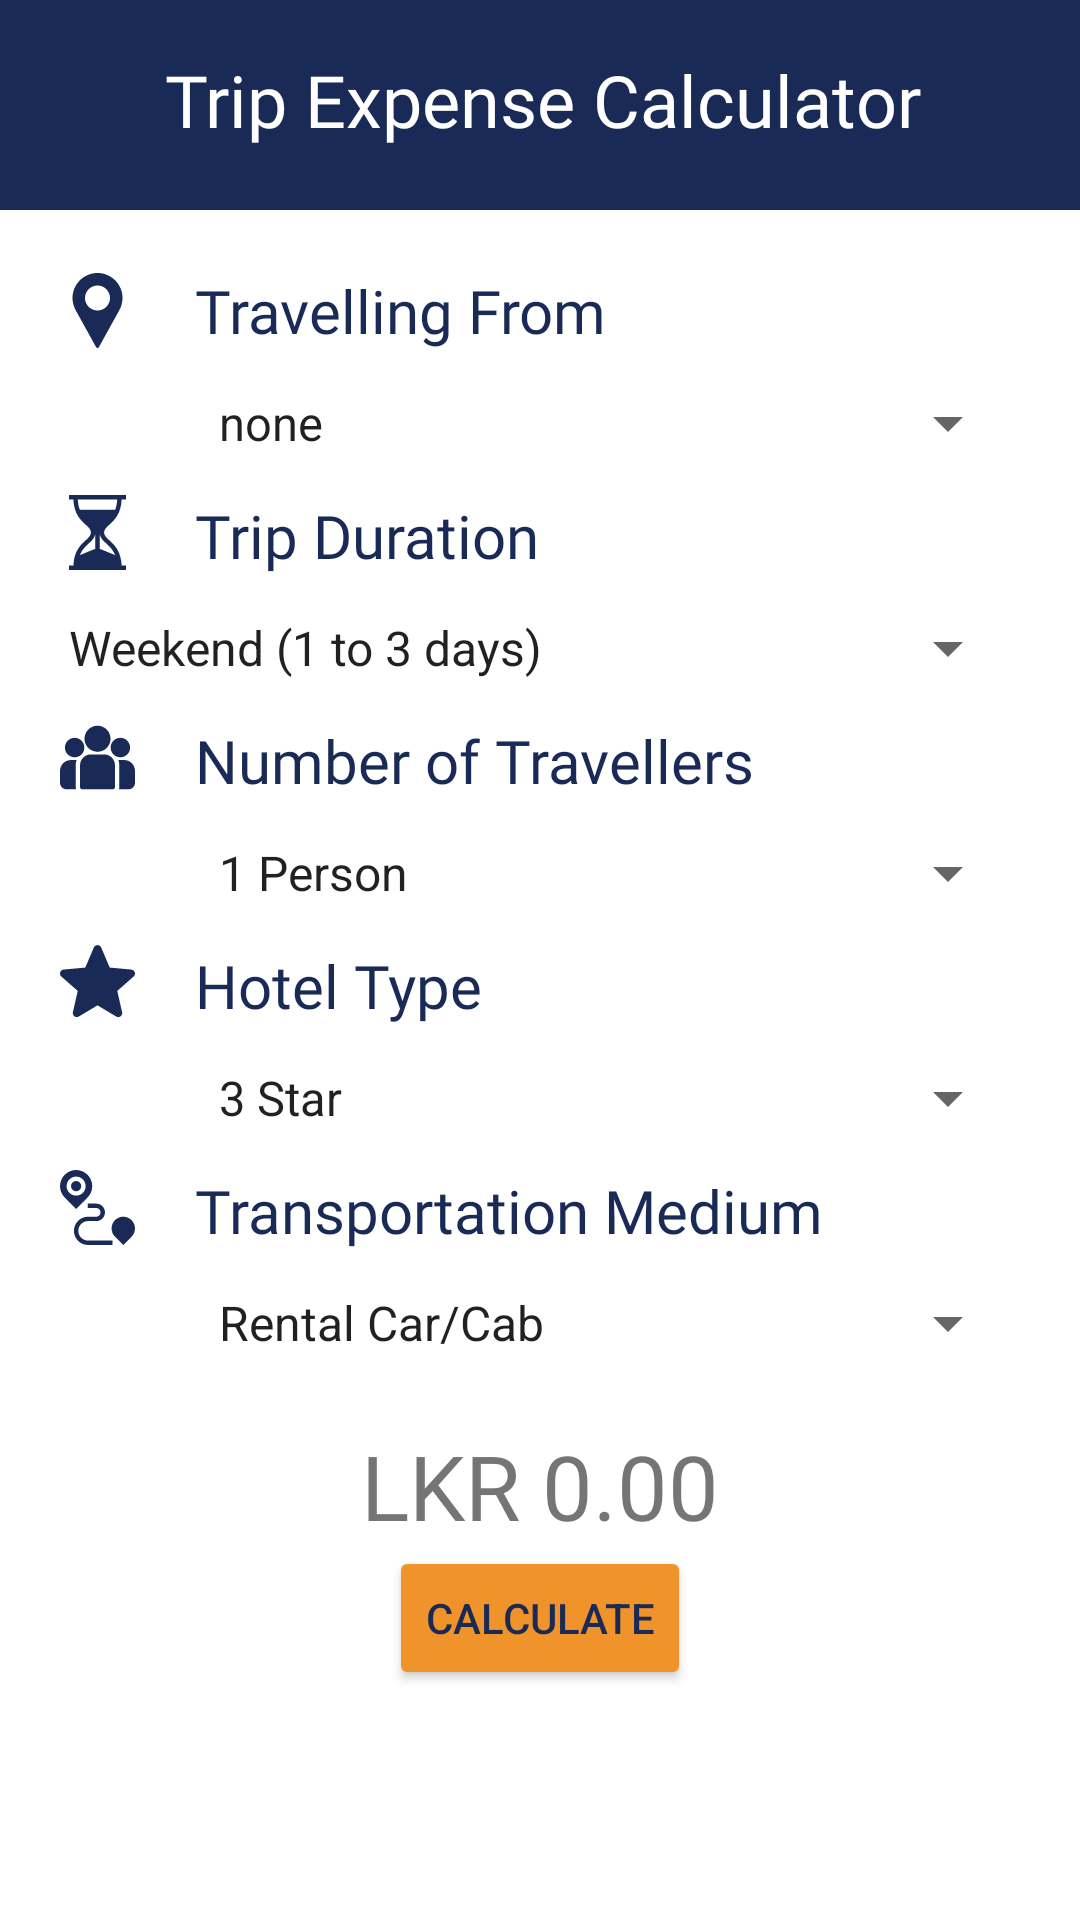

Where icons sit on this 1080 × 1920 app screen, as region(x1, y1, x2, y2):
drawableduration: region(69, 495, 126, 570)
drawableratingbw: region(60, 945, 135, 1017)
pin point: region(72, 273, 123, 348)
